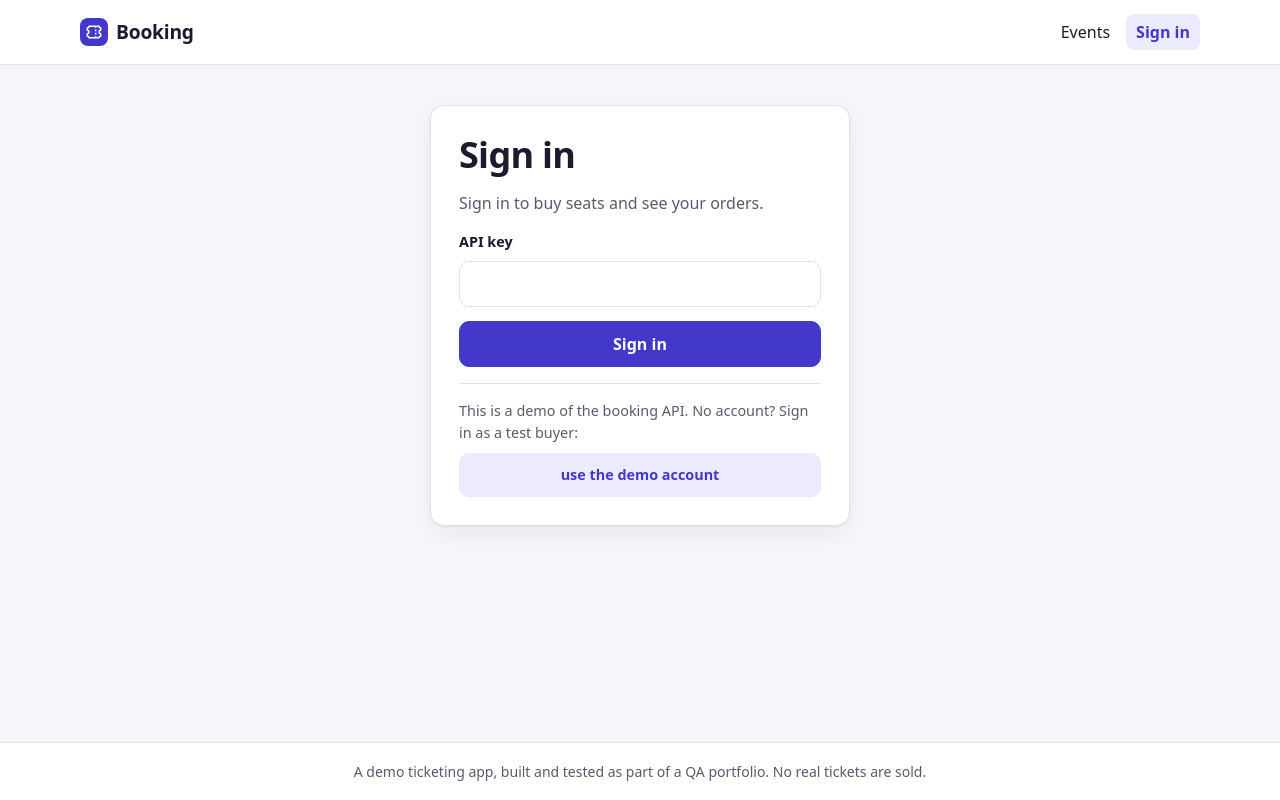
Test case: SignInPage › asks for a key when the box is empty
Click the button "Sign in" at [640, 344], box [459,321,821,367]
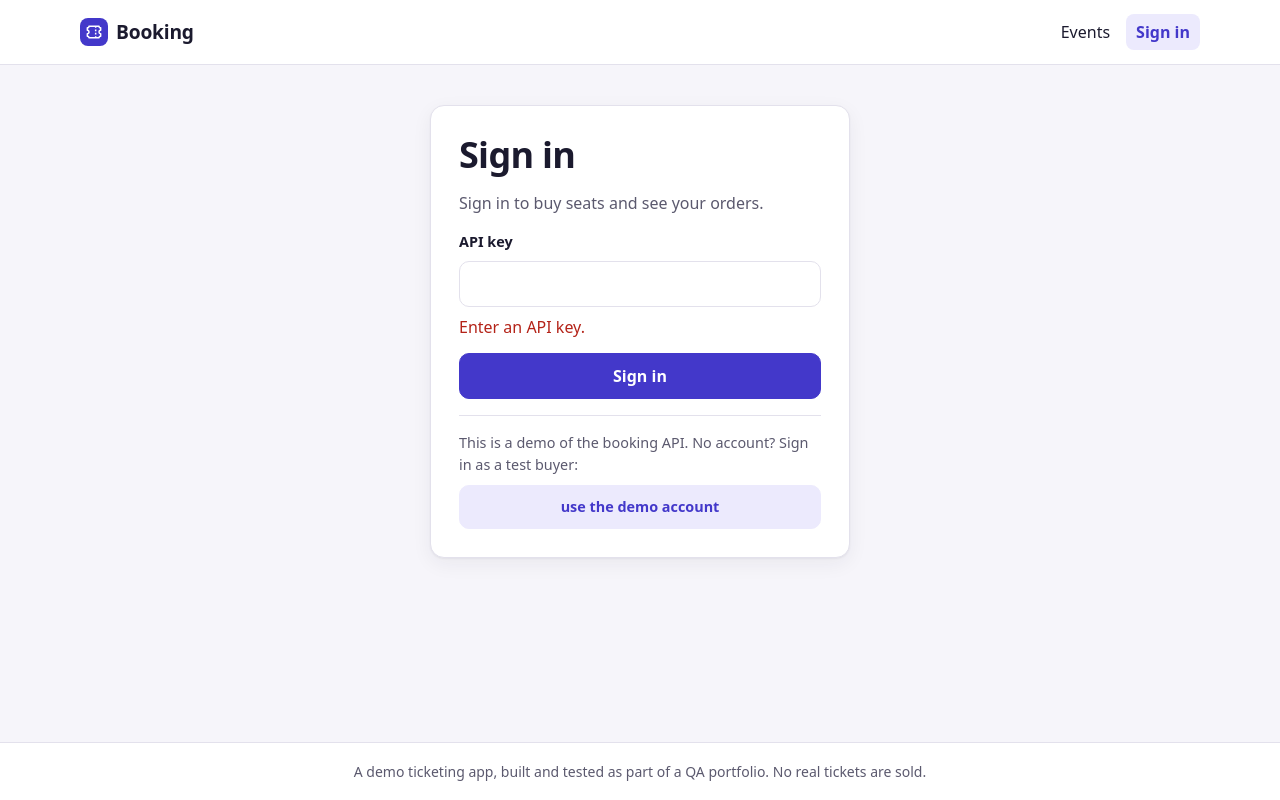
Expected: the message reads "Enter an API key.", [459,316,585,338]
